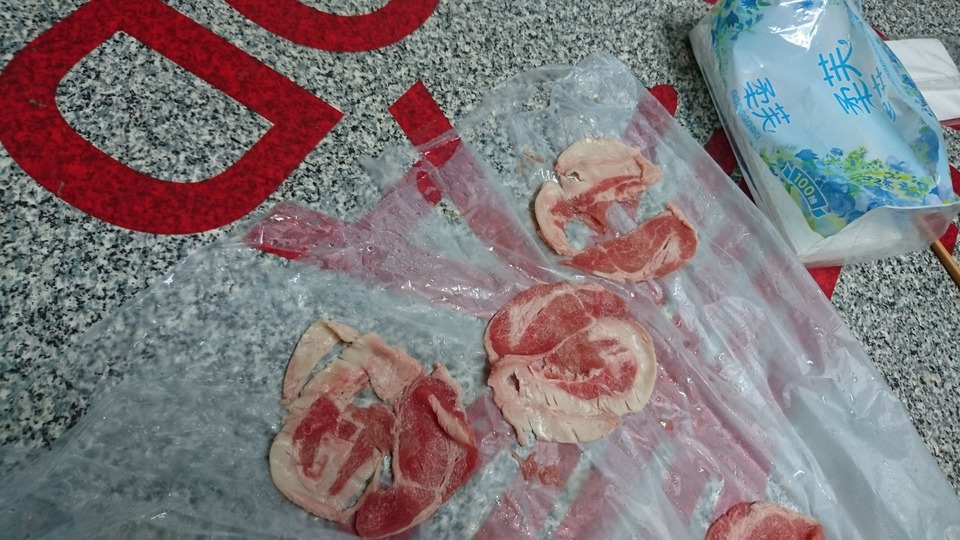restructured meat: (260, 300, 483, 540), (483, 279, 661, 451), (533, 133, 705, 282)
